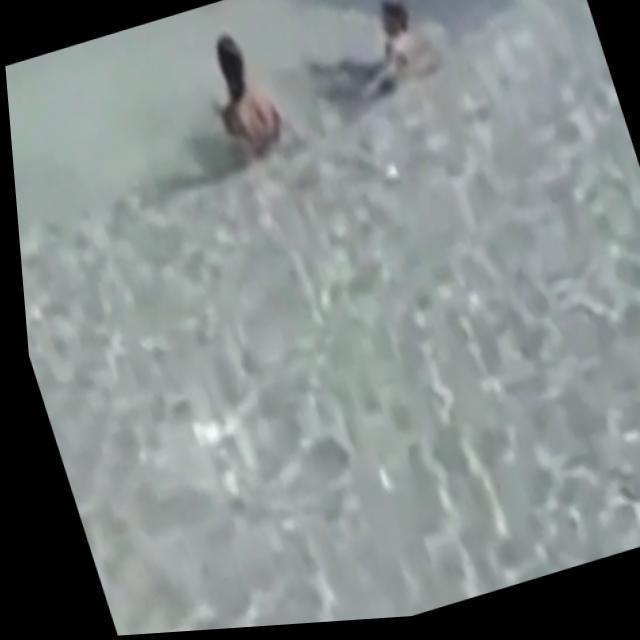swimming: (190, 36, 312, 172), (307, 2, 471, 99)
